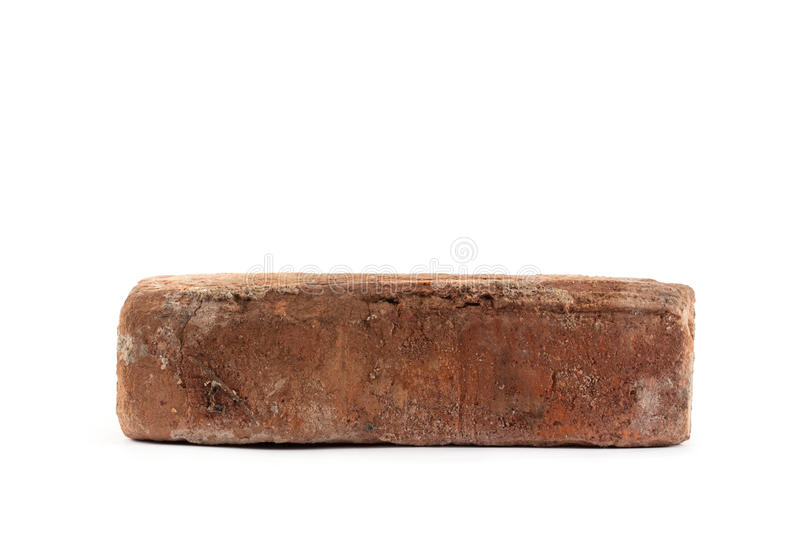brick: (124, 292, 691, 445)
